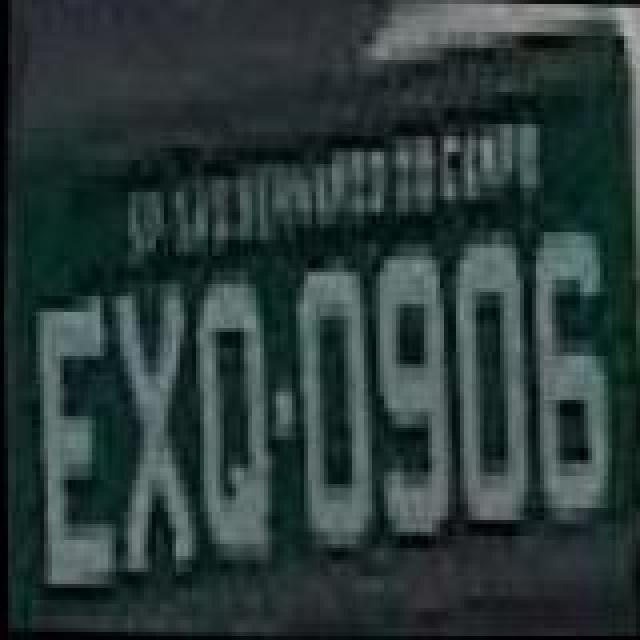6: (522, 228, 622, 532)
9: (364, 252, 460, 544)
E: (26, 296, 130, 600)
O: (282, 264, 382, 556), (444, 238, 540, 534)
Q: (182, 274, 282, 570)
X: (106, 286, 210, 578)
